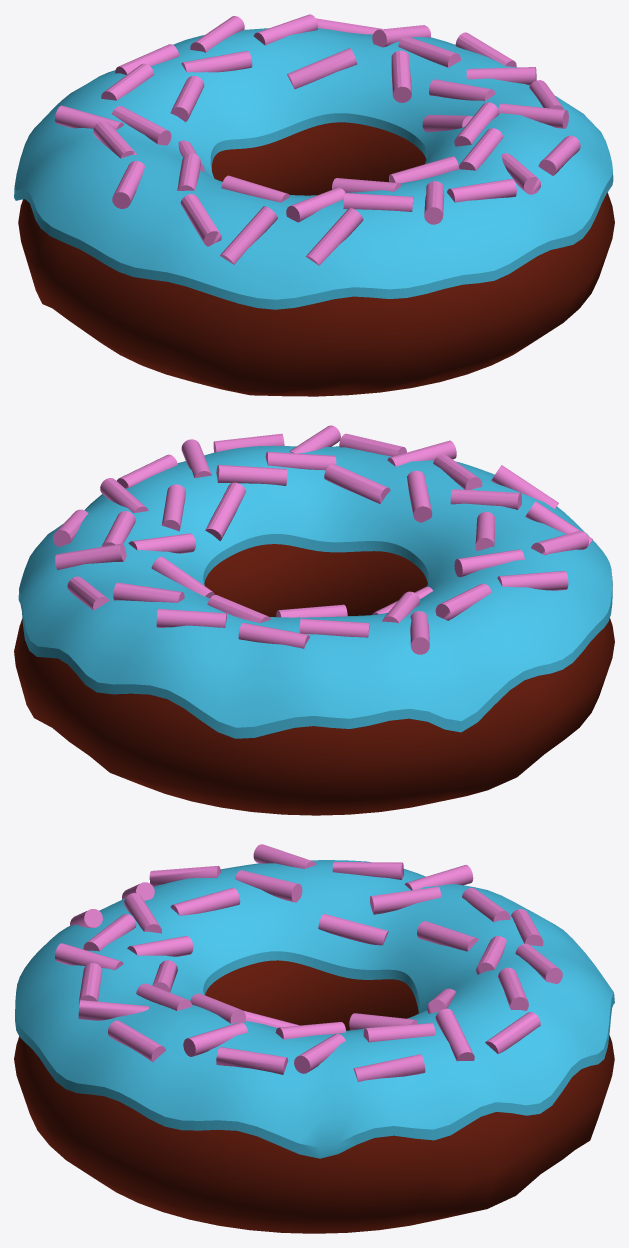
The model's file is donut.fbx.
3 views of the same model, one above another, from view 1: azimuth 30°, elevation 25°; view 2: azimuth 150°, elevation 25°; view 3: azimuth 270°, elevation 25° (orthographic).
Parts seen in each view (by area): view 1: donut1; view 2: donut1; view 3: donut1.
Part boxes in pixels (x1,y1,x2,y2): donut1: [14, 14, 614, 396]; donut1: [14, 425, 614, 815]; donut1: [14, 844, 614, 1233].
Bounding box in the file's own units: 306 × 304 × 109.
